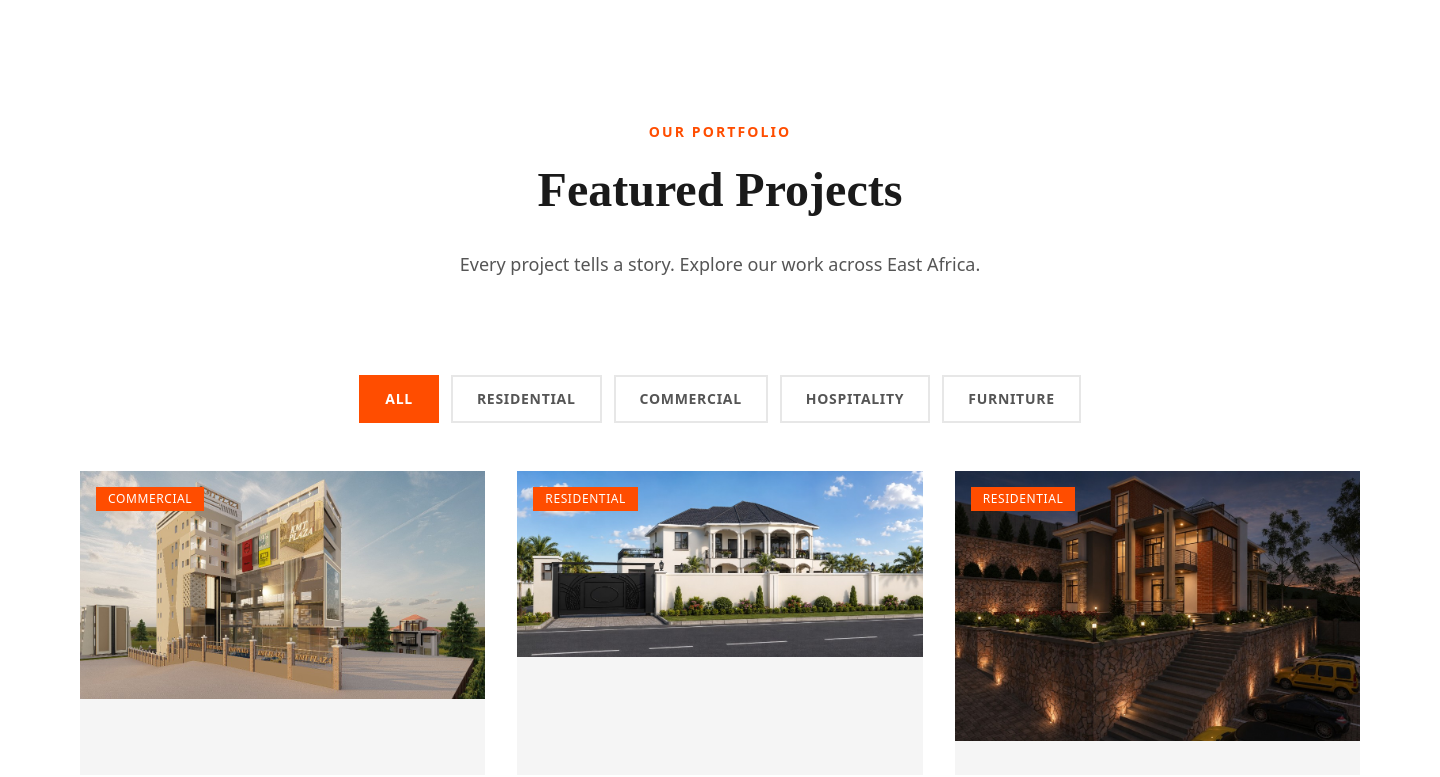
Test case: Portfolio › shows all projects when All filter is clicked
The width and height of the screenshot is (1440, 777).
Click the button "Commercial": [691, 399] box [614,375,768,423]
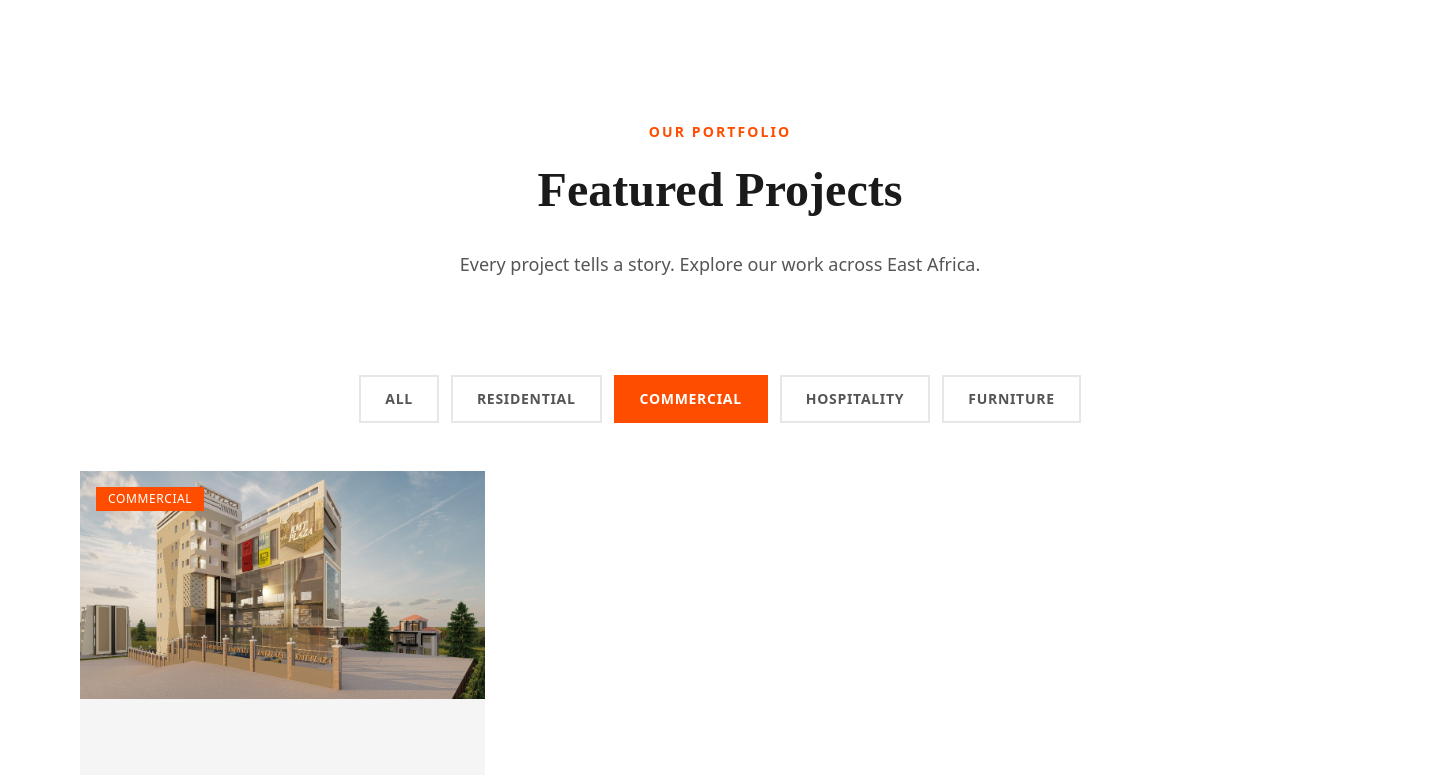
Click the button "All": [399, 399] box [359,375,439,423]
(page scrolled)
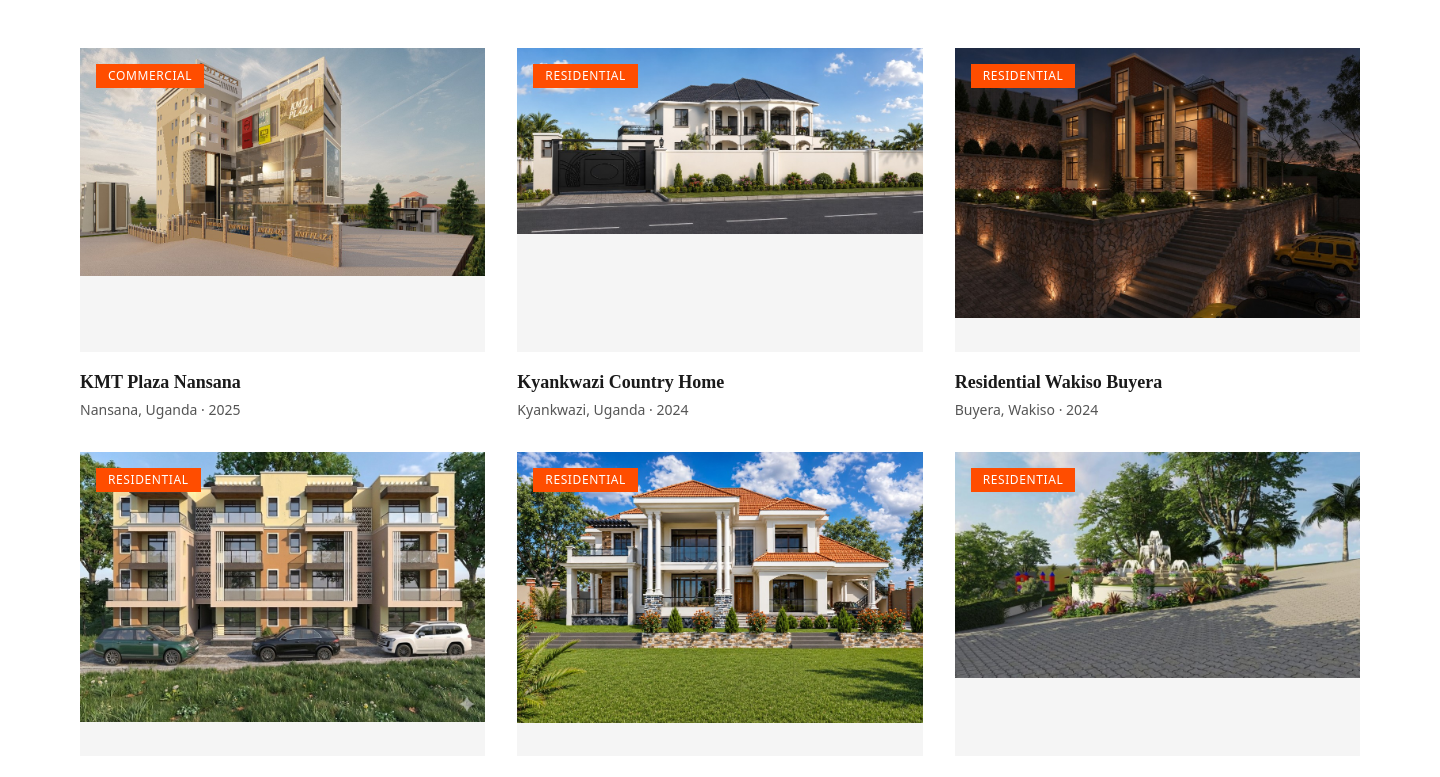
Check: the heading "KMT Plaza Nansana" is shown, box [80,372,241,392]
Check: the heading "Kyankwazi Country Home" is shown, box [517,372,724,392]
